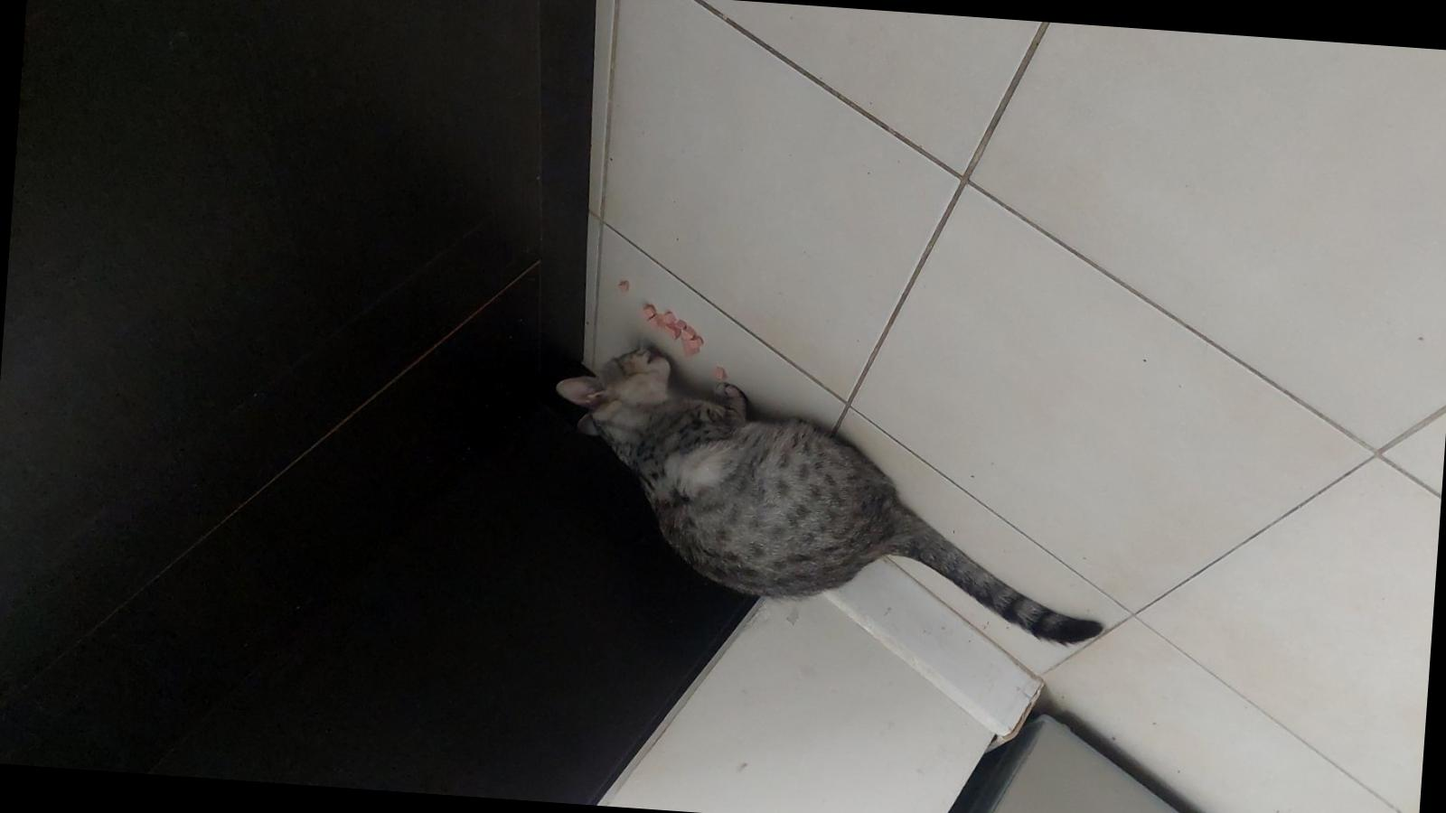macka: (540, 333, 1126, 646)
